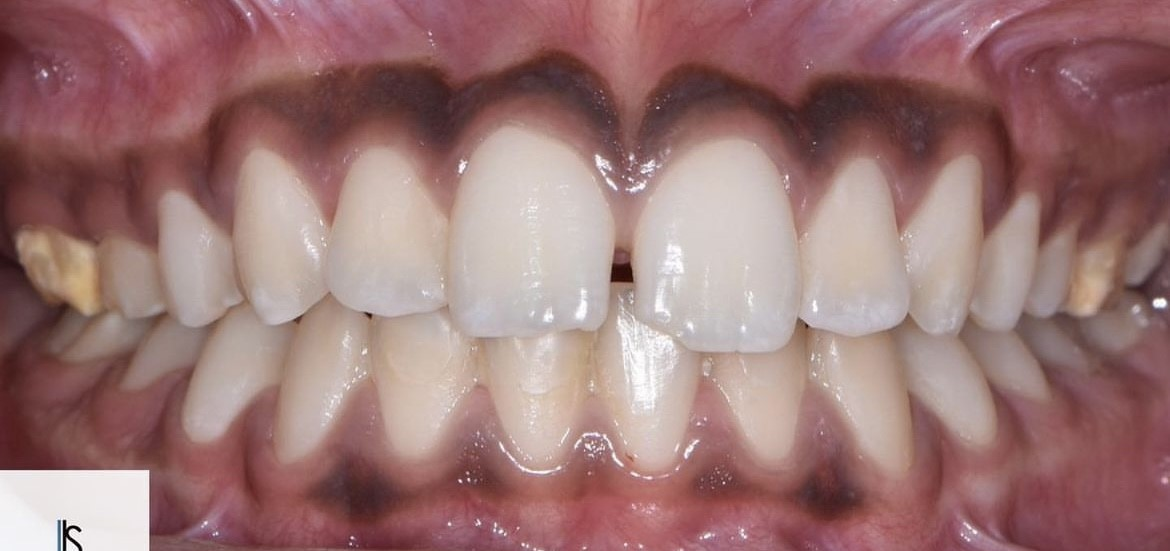UL1BC_mdecay: (981, 197, 1031, 328)
UL1M_mdecay: (1077, 232, 1125, 319)
UL2BC_mdecay: (1036, 231, 1073, 318)
ULCI_mdecay: (634, 139, 798, 349)
ULC_mdecay: (910, 155, 976, 330)
ULLI_mdecay: (800, 159, 910, 334)
UR1BC_mdecay: (155, 195, 237, 326)
UR1M_mdecay: (11, 229, 92, 315)
UR2BC_mdecay: (99, 236, 158, 318)
URCI_mdecay: (451, 134, 607, 336)
URC_mdecay: (232, 152, 328, 323)
URLI_mdecay: (328, 153, 442, 308)
